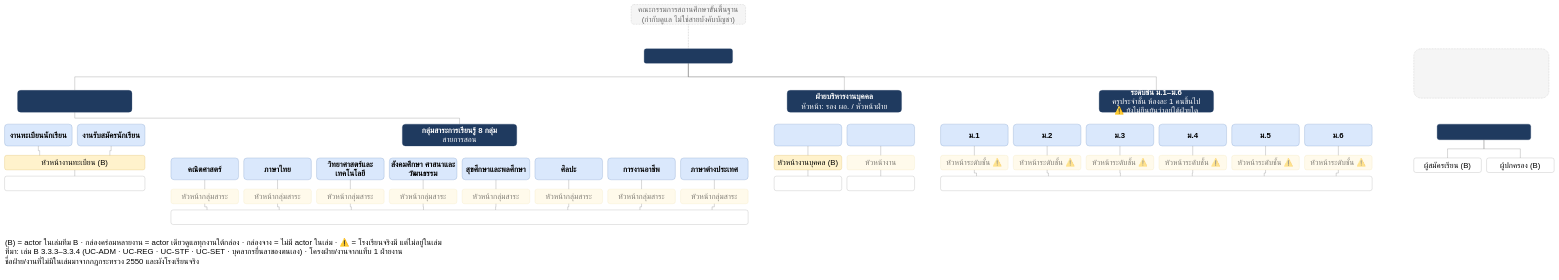
Image size: 1559x280. Some labels were removed from this diagram. The shapes that lost their labels are listed below. From the top down, each one's centre as x and y in pixels, then its label:
At (x=688, y=55): "ผู้อำนวยการโรงเรียน".
At (x=1481, y=73): "ผู้ดูแลระบบ (B) ไม่ใช่ตำแหน่งในโรงเรียน สิทธิ์ทุกงาน + ตั้งค่าโรงเรียน (SET-01)".
At (x=74, y=101): "ฝ่ายบริหารวิชาการ หัวหน้า: รอง ผอ. / หัวหน้าฝ่าย".
At (x=808, y=135): "งานบุคลากร".
At (x=881, y=135): "งานสรรหา บรรจุ ย้าย ลา".
At (x=1484, y=132): "คนนอก / ผู้รับบริการ".
At (x=74, y=183): "เจ้าหน้าที่งานทะเบียน (B)".
At (x=808, y=183): "เจ้าหน้าที่งานบุคคล (B)".
At (x=881, y=183): "บุคลากร (B) ยื่นลาของตนเอง".
At (x=1156, y=183): "ครูประจำชั้น (B)".
At (x=459, y=217): "ครู (B)".
